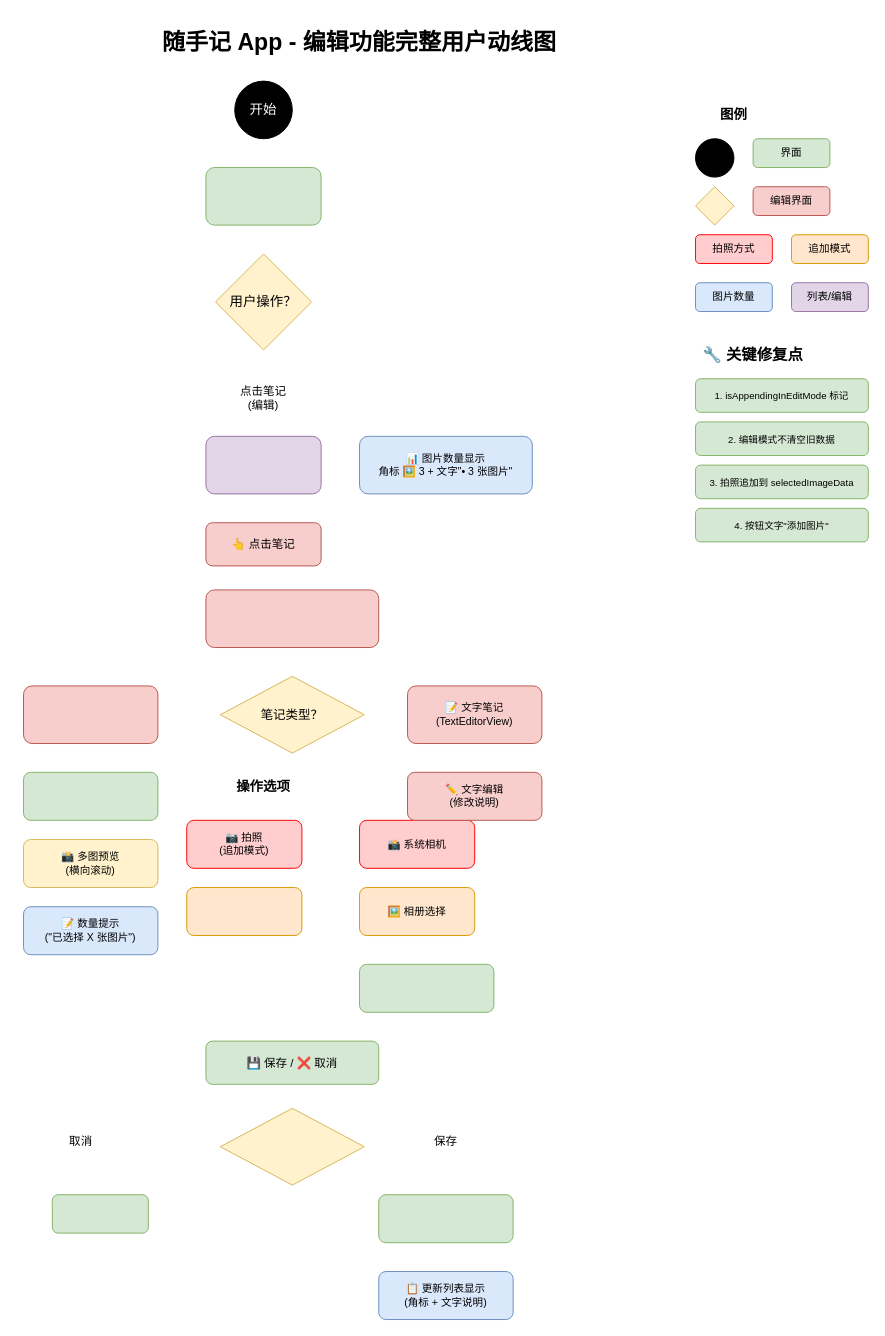
This 885x1336 diagram has some shape labels left out. The shapes that lost their labels are listed below. From the top down, each one's centre as x and y in pixels, then its label:
pixel 714 157: 开始/结束
pixel 263 196: ContentView (主界面)
pixel 714 205: 决策
pixel 263 464: 笔记列表 (NoteRow)
pixel 292 618: ✏️ 编辑模式 (CameraView/TextEditorView)
pixel 90 714: 📸 图片/混合笔记 (CameraView)
pixel 90 795: ✅ 加载所有图片 (主图 + 附加图片)
pixel 244 911: 🖼️ 添加图片 (追加模式)
pixel 426 987: ✅ 追加图片 (不清空旧数据)
pixel 291 1146: 保存？
pixel 99 1213: 返回列表
pixel 445 1218: modelContext.save (更新笔记)
